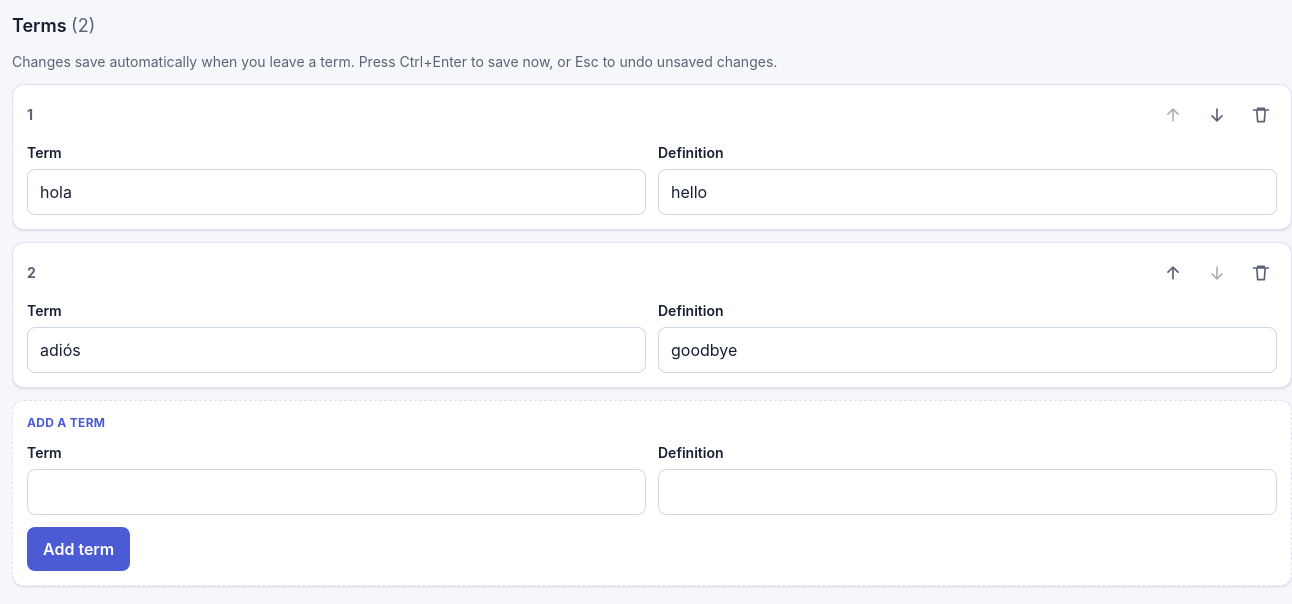
TermEditor › autosaving existing terms › restores the last saved values with Escape
Expected: the 1st text box showing "hola" is shown, [27,169,646,215]
Replace the text in the text box named "Term 2" with "chau" at point(336, 350), box [27,327,646,373]
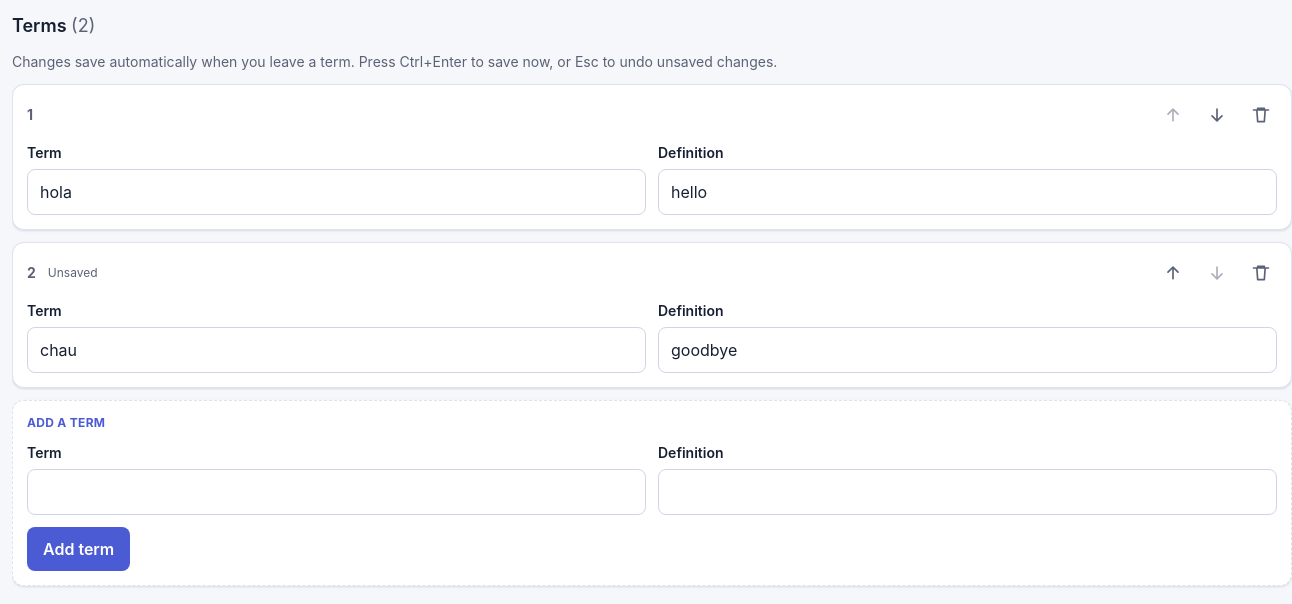
Press Escape in the text box named "Term 2", box [27,327,646,373]
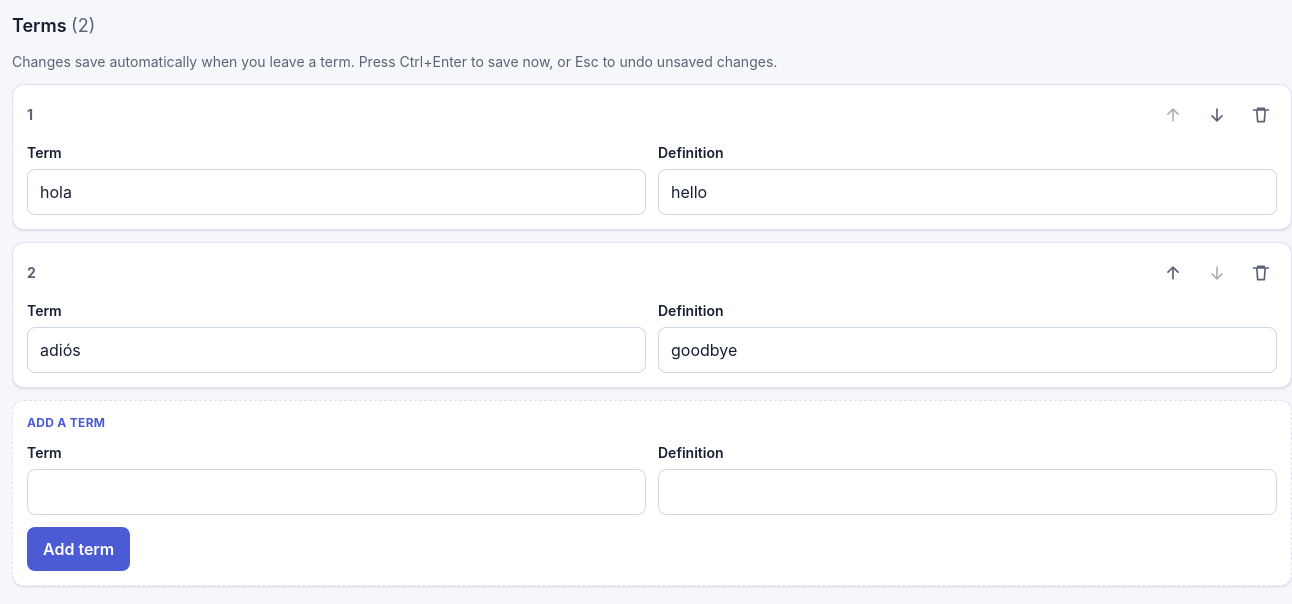
Expected: the text box named "Term 2" holds "adiós", [27,327,646,373]
